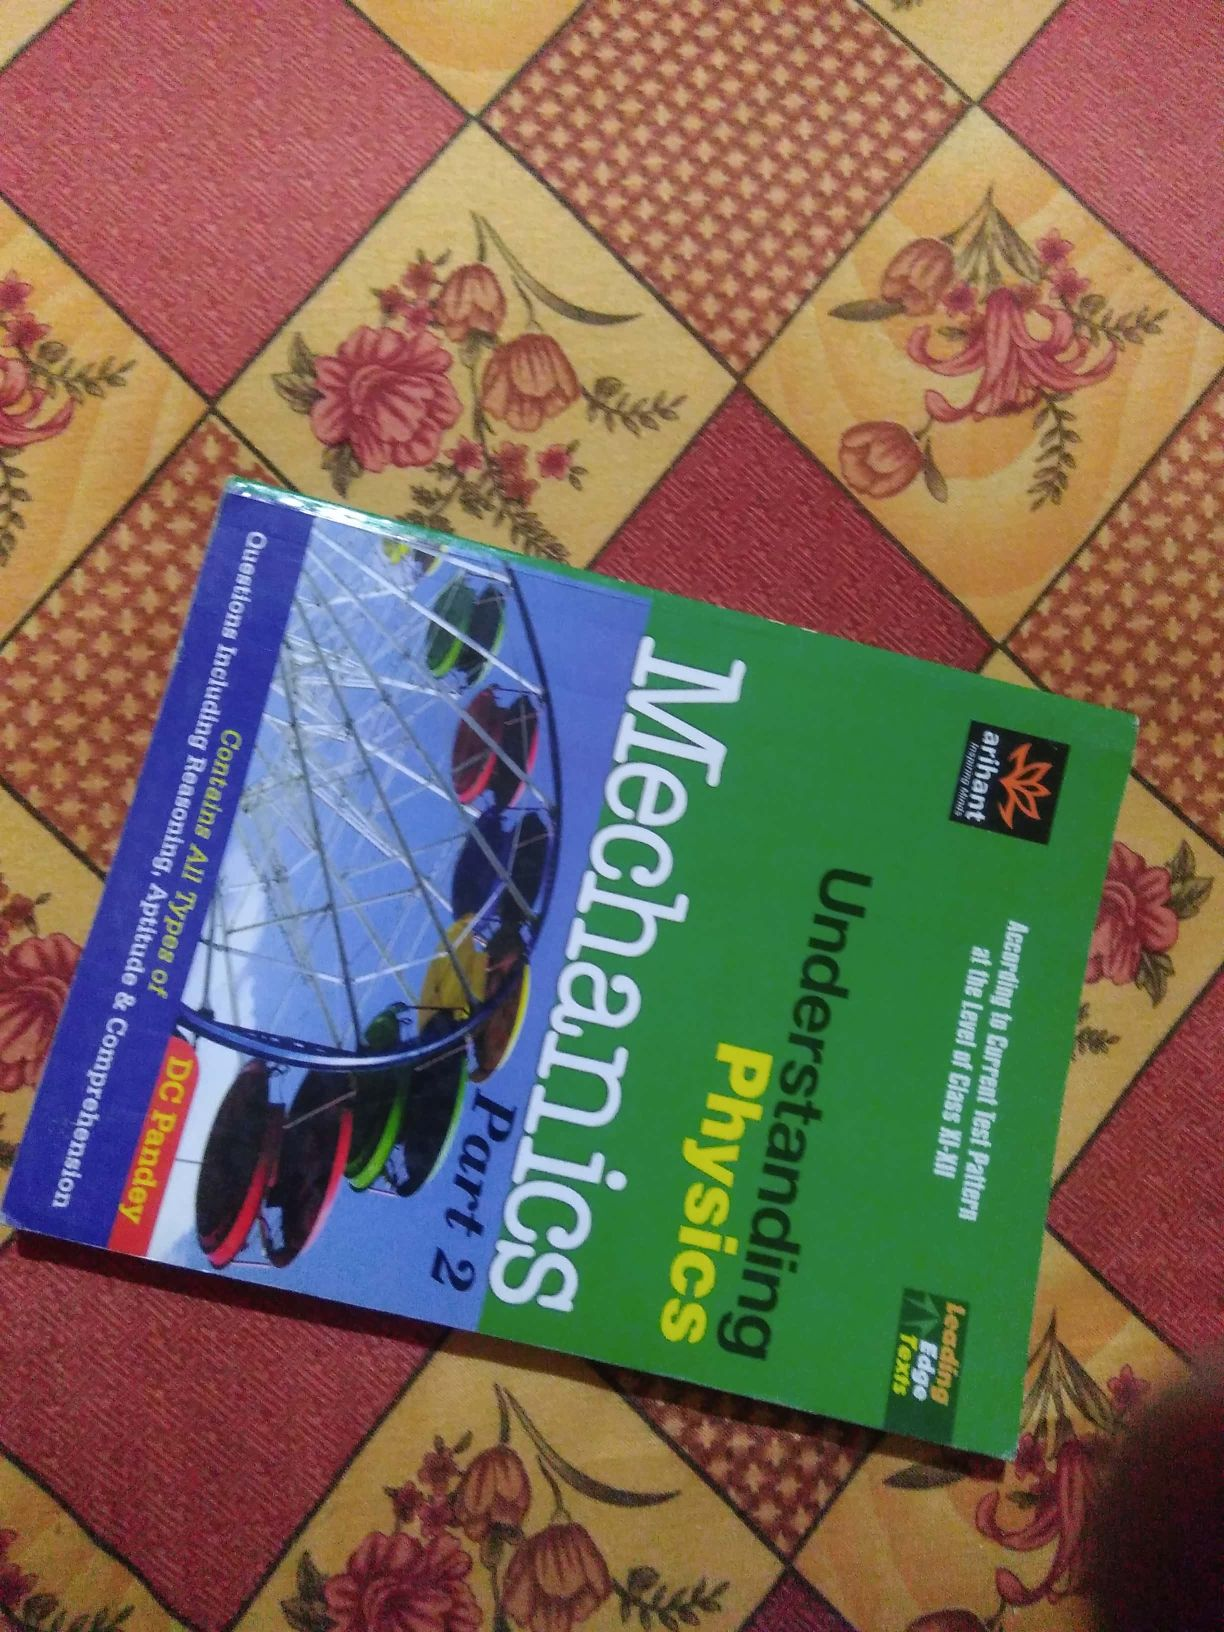mechanics: (15, 432, 1149, 1515)
